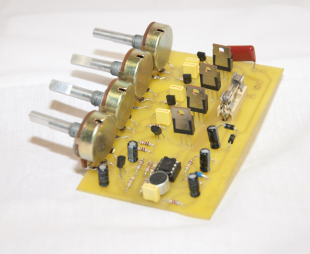capacitor: (205, 125, 220, 149), (96, 163, 109, 187), (188, 173, 201, 197), (127, 140, 138, 162), (200, 148, 210, 172)
resistor: (126, 176, 134, 190), (138, 146, 152, 154), (185, 158, 193, 172), (138, 140, 153, 147), (136, 158, 144, 171), (144, 161, 152, 174), (169, 199, 183, 206)
